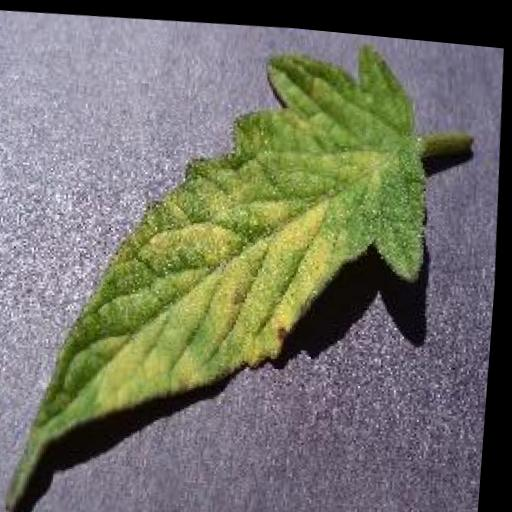Leaf Mold: (0, 12, 454, 512)
